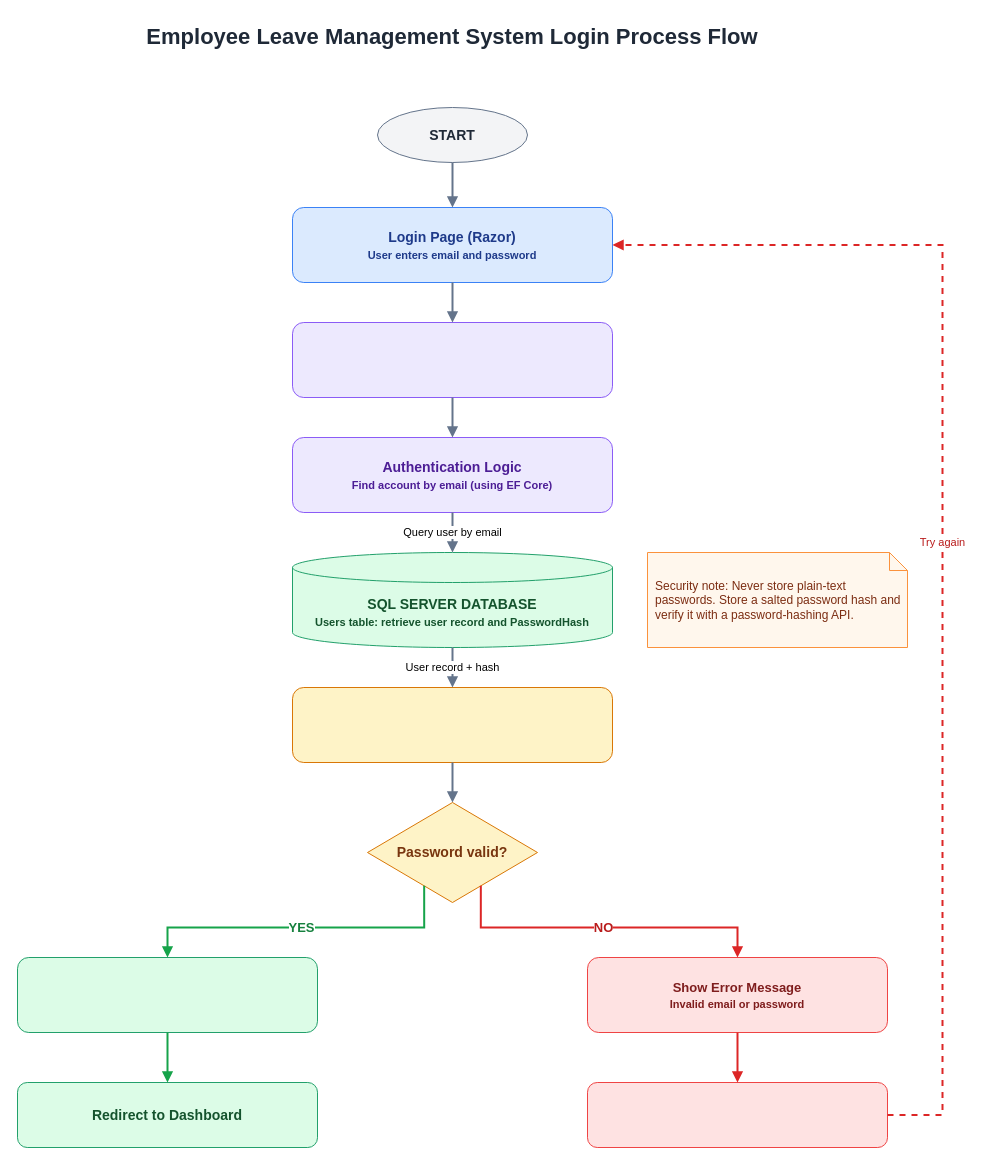
Image size: 982x1165. Some labels were removed from this diagram. The centre of each missing label's shape, as x and y in pixels:
AccountController Receives POST /Account/Login: (x=452, y=360)
Create Authentication Session Sign in using authentication cookie: (x=167, y=994)
Return to Login Page: (x=737, y=1115)
Verify Password Compare entered password with stored hash: (x=452, y=724)
